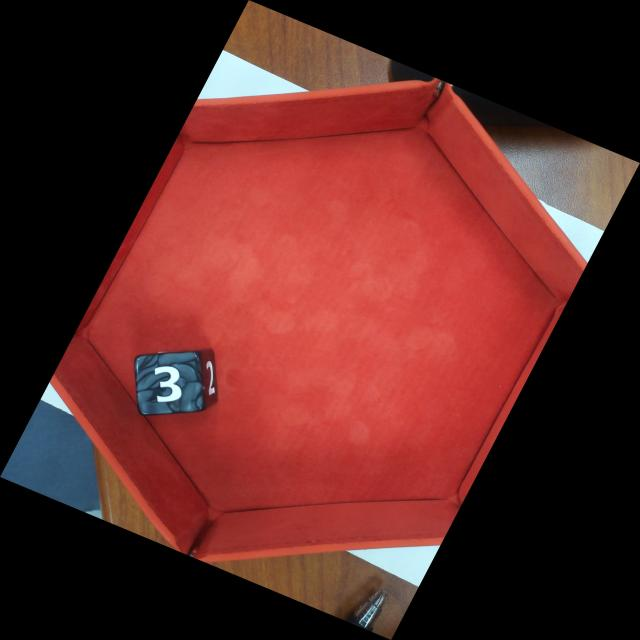dice: (134, 350, 205, 416)
